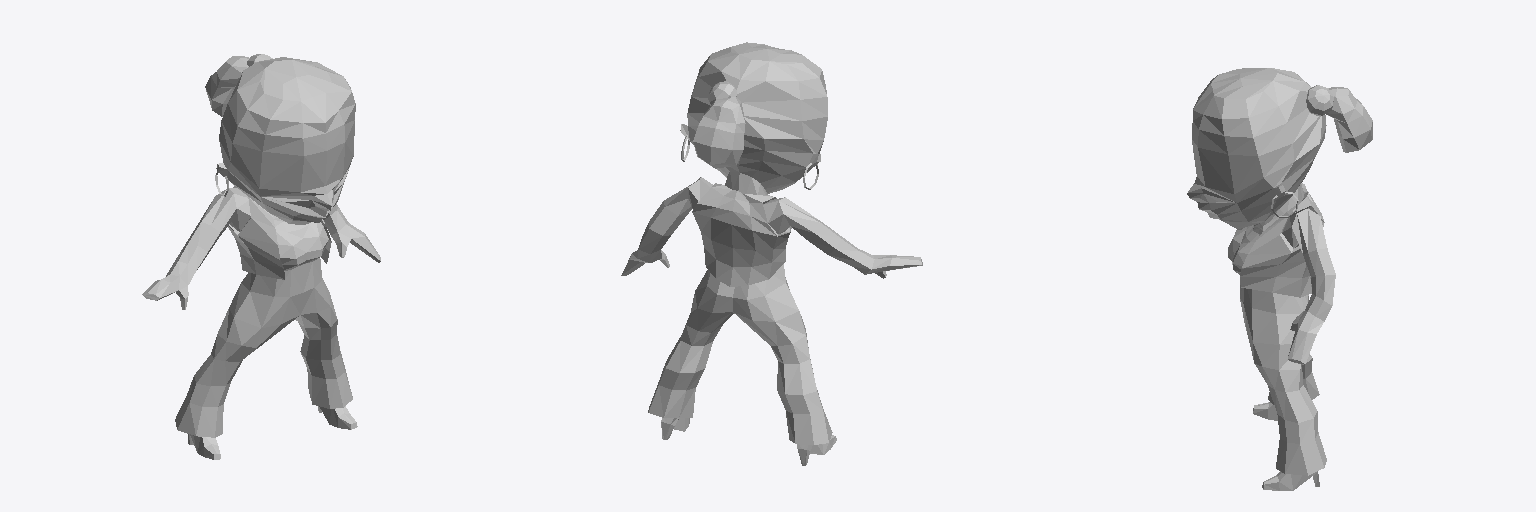
Rendered from bailarina_000221.obj.
3 renders of one model, left to right at view 1: azimuth 30°, elevation 25°; view 2: azimuth 150°, elevation 25°; view 3: azimuth 270°, elevation 25°, orthographic.
Parts seen in each view (by area): view 1: bAilarina:Mesh; view 2: bAilarina:Mesh; view 3: bAilarina:Mesh.
Boxes of the visible parts, <box> form: bAilarina:Mesh: <box>142,54,380,459</box>; bAilarina:Mesh: <box>621,42,922,465</box>; bAilarina:Mesh: <box>1187,68,1372,490</box>.
Size of the model in its own units: 12.27 by 16.71 by 7.37.